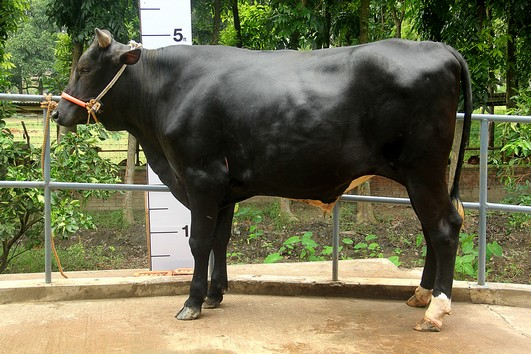cow: (47, 25, 486, 334)
